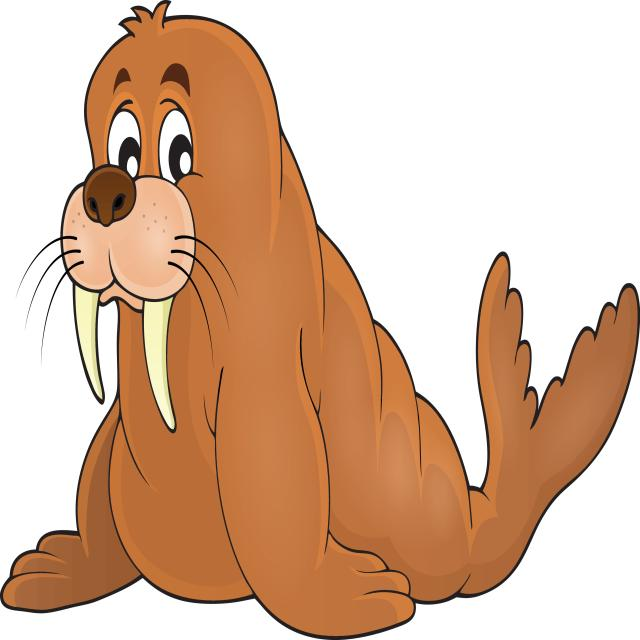walrus: (2, 4, 420, 639)
